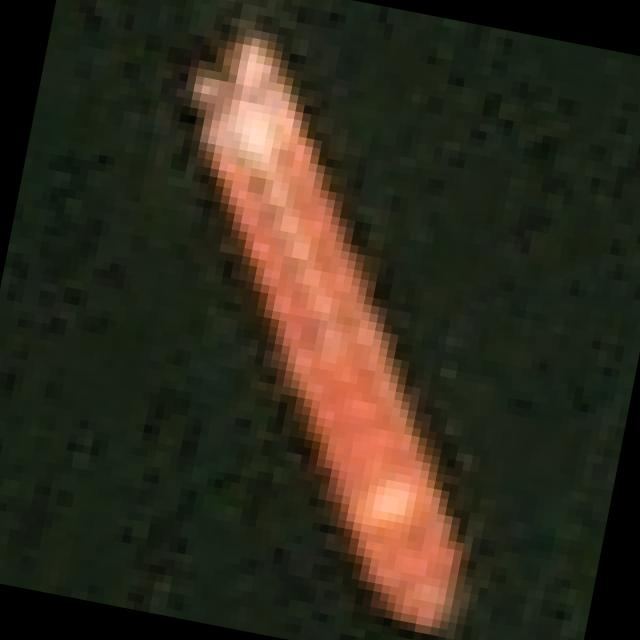ship: (72, 0, 609, 640)
